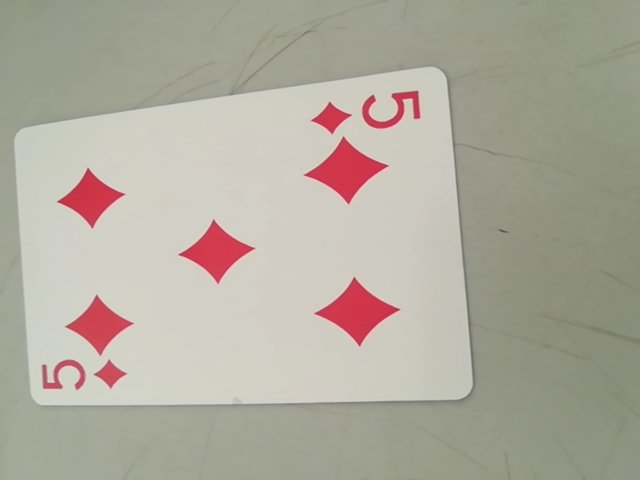fk 5: (312, 84, 423, 138), (32, 353, 129, 404)
